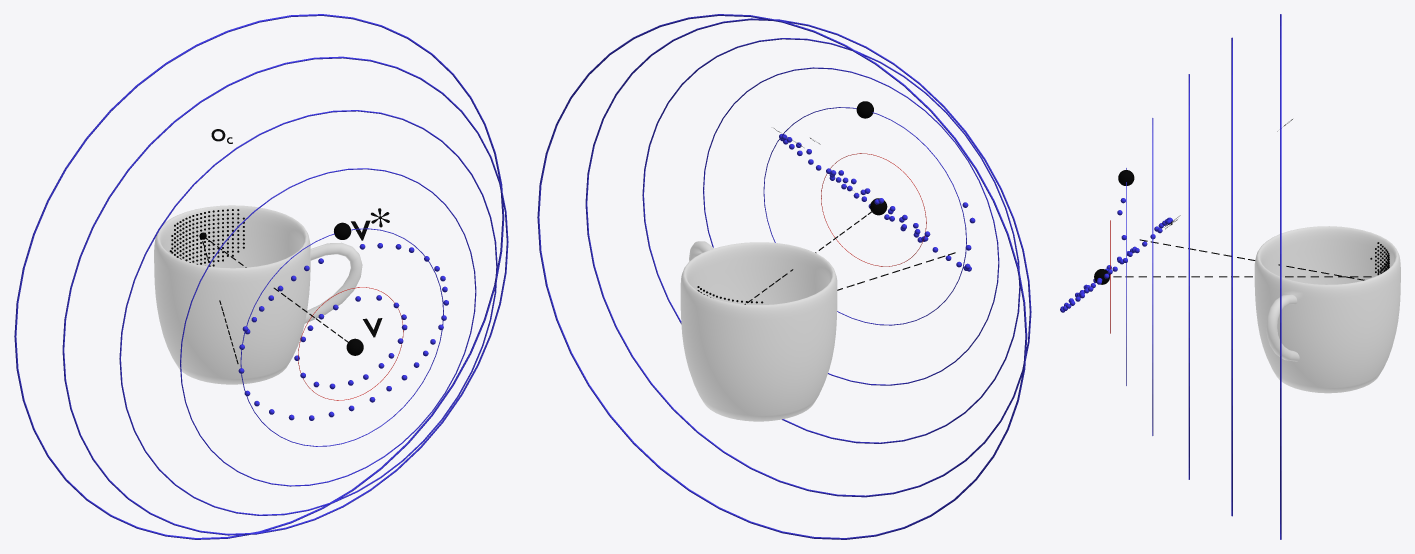
The model's file is occlusion_avoidance.glb.
The picture shows the model from 3 angles, left to right: view 1: azimuth 30°, elevation 25°; view 2: azimuth 150°, elevation 25°; view 3: azimuth 270°, elevation 25°; orthographic projection. The views are drawn at different scales.
Parts seen in each view (by area): view 1: teacup, Torus.001, Torus.002, Torus.004, Torus.005, Torus.006; view 2: teacup, Torus.001, Torus.002, Torus.004, Torus.005, Torus.006; view 3: teacup, Torus.001, Torus.002, Torus.004, Torus.005.
Part boxes in pixels (left/top/right/bottom): teacup: left=154, top=205, right=362, bottom=384; Torus.001: left=14, top=14, right=504, bottom=539; Torus.002: left=62, top=56, right=508, bottom=535; Torus.004: left=119, top=110, right=497, bottom=515; Torus.005: left=180, top=168, right=476, bottom=486; Torus.006: left=240, top=228, right=443, bottom=446; teacup: left=680, top=241, right=837, bottom=421; Torus.001: left=537, top=14, right=1027, bottom=539; Torus.002: left=585, top=18, right=1031, bottom=497; Torus.004: left=642, top=38, right=1020, bottom=443; Torus.005: left=703, top=67, right=999, bottom=385; Torus.006: left=763, top=107, right=966, bottom=325; teacup: left=1254, top=226, right=1400, bottom=393; Torus.001: left=1280, top=14, right=1281, bottom=539; Torus.002: left=1231, top=37, right=1232, bottom=516; Torus.004: left=1188, top=74, right=1189, bottom=479; Torus.005: left=1152, top=118, right=1153, bottom=435.
Size of the model in its own units: 1.45 by 1.45 by 0.9405.
